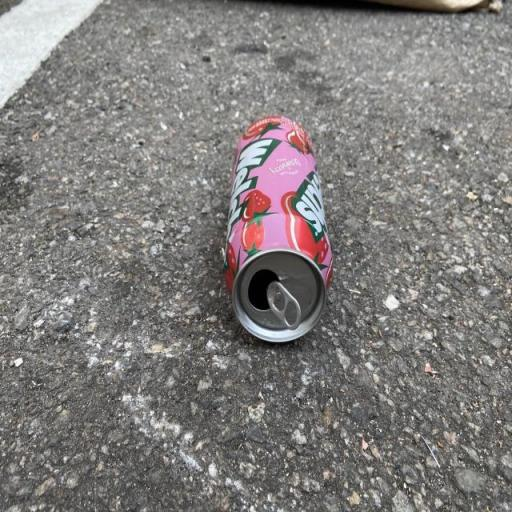metal: (208, 92, 350, 368)
